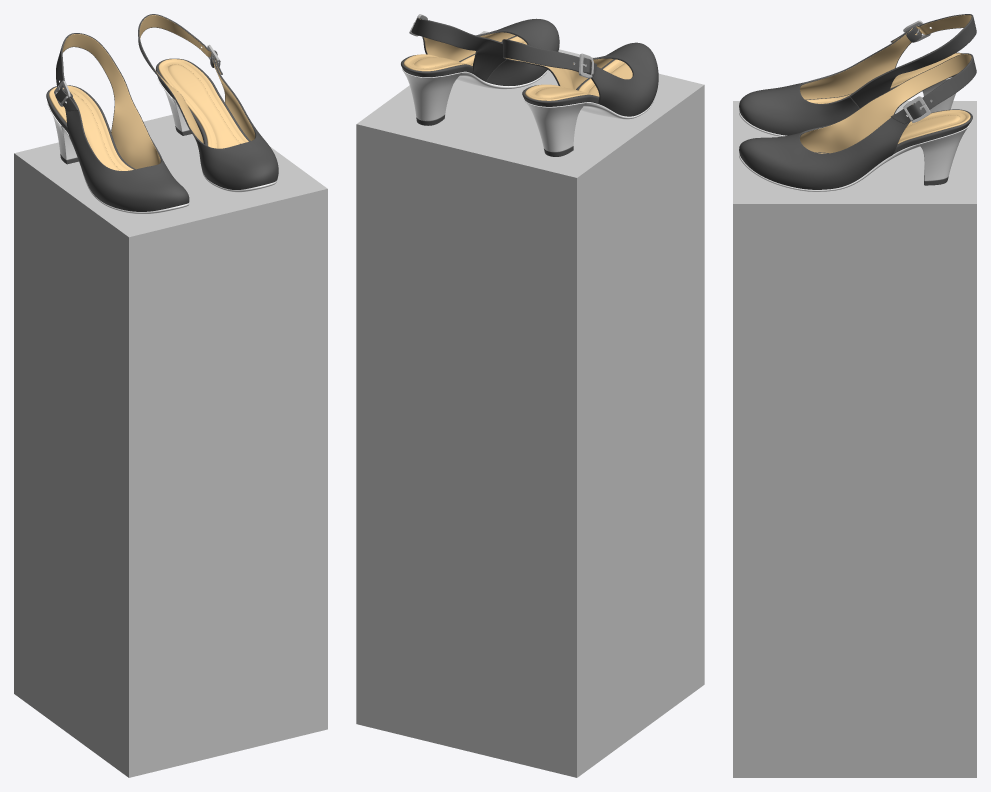
Rendered from tacones.glb.
3 views of the same model, side by side, from view 1: azimuth 30°, elevation 25°; view 2: azimuth 150°, elevation 25°; view 3: azimuth 270°, elevation 25° (orthographic). The views are drawn at different scales.
Visible parts, largest first — view 1: Cube.001, Upper_part_1.001, Upper_part_1; view 2: Cube.001, Upper_part_1.001, Upper_part_1; view 3: Cube.001, Upper_part_1, Upper_part_1.001.
Boxes of the visible parts, x1,y1,x2,y2 form: Cube.001: (14, 114, 327, 777); Upper_part_1.001: (46, 33, 189, 213); Upper_part_1: (138, 14, 278, 192); Cube.001: (356, 31, 704, 777); Upper_part_1.001: (502, 39, 658, 156); Upper_part_1: (401, 14, 559, 125); Cube.001: (733, 101, 976, 777); Upper_part_1: (739, 53, 976, 191); Upper_part_1.001: (739, 14, 976, 136).
Bounding box in the file's own units: 0.2089 × 0.6506 × 0.2089.
